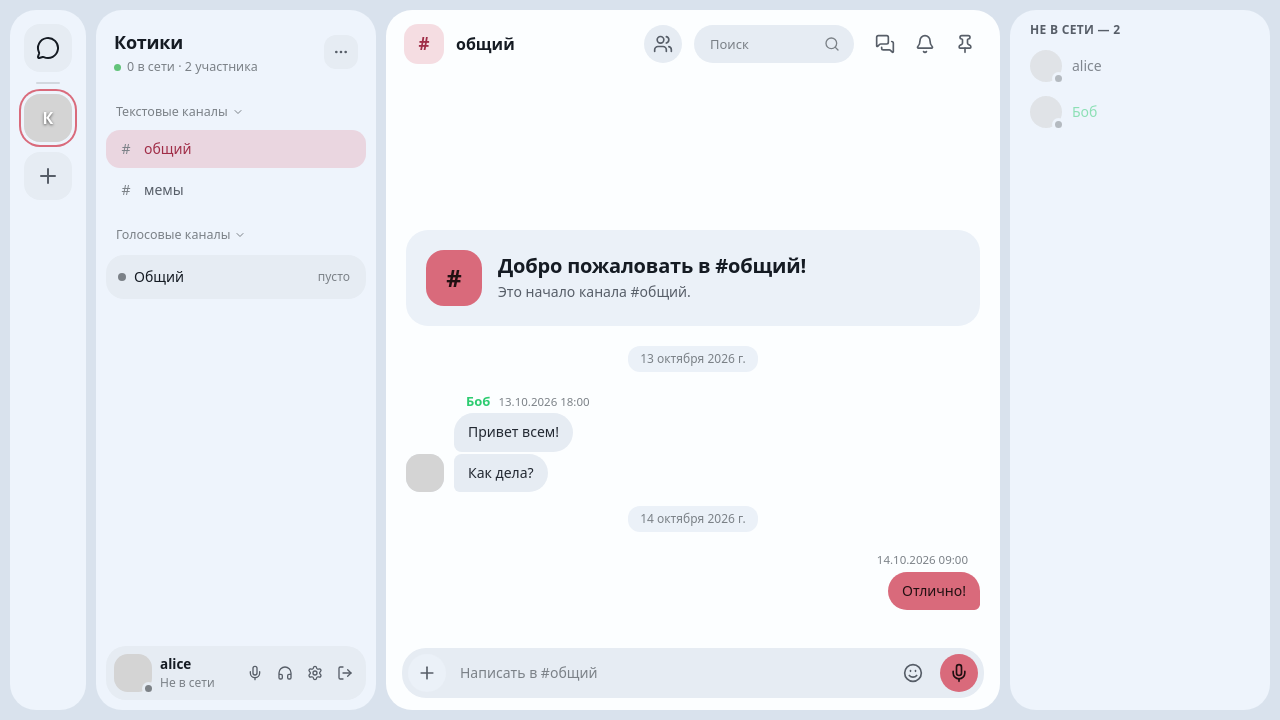
Scenario: moderating from a profile card › offers no moderation to members without those rights
Step 1. Click the button with aria-label "Боб," → [1140, 112], box [1022,90,1258,134]
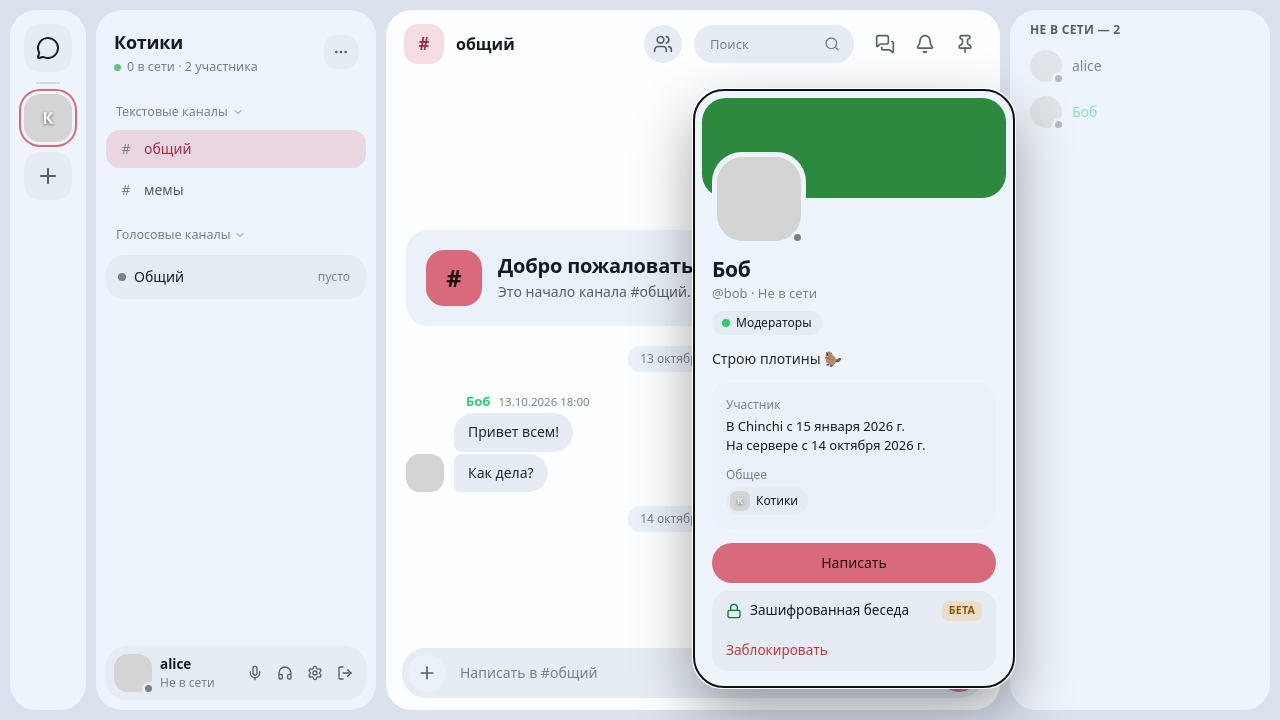
Result: the button "Написать" is shown at [712,543,996,583]
